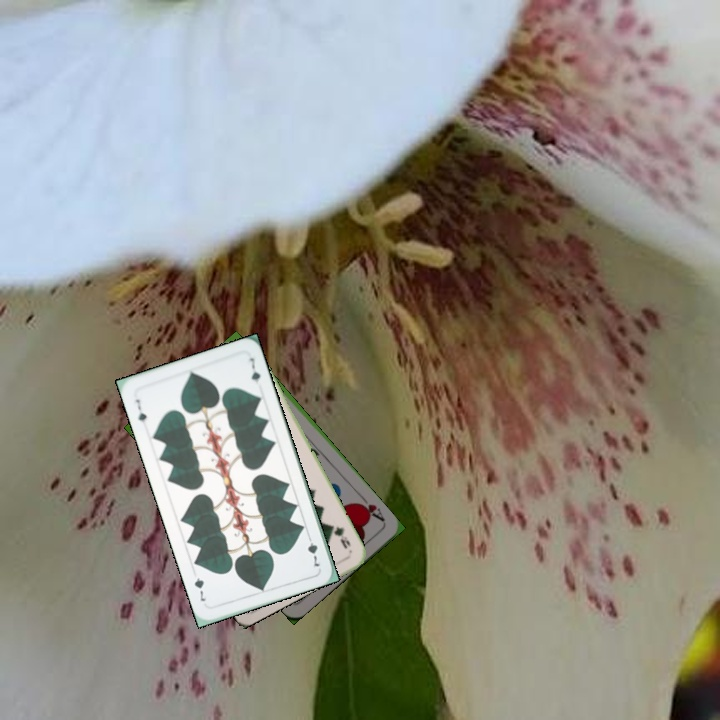G7: (303, 531, 323, 569), (131, 395, 149, 430)
G9: (326, 520, 353, 551)
HA: (353, 492, 387, 524)
